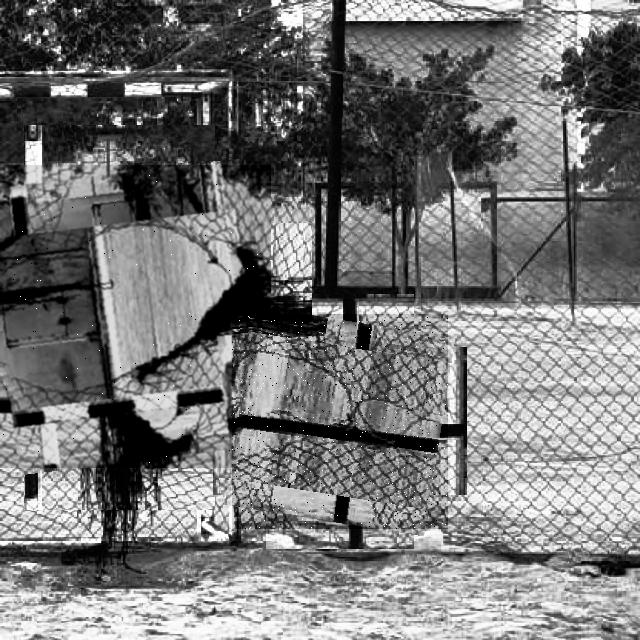anomaly-fence: (0, 165, 271, 468), (232, 314, 448, 529)
